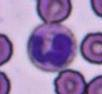N: (26, 22, 76, 72)
